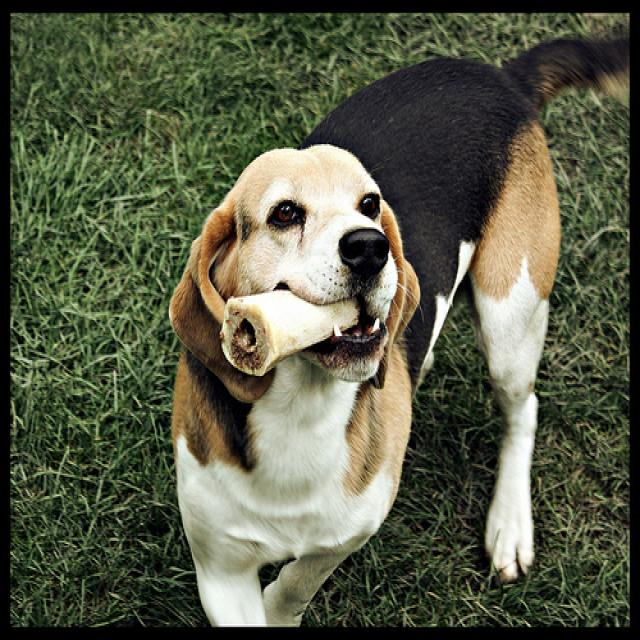dog-beagle: (160, 32, 637, 637)
